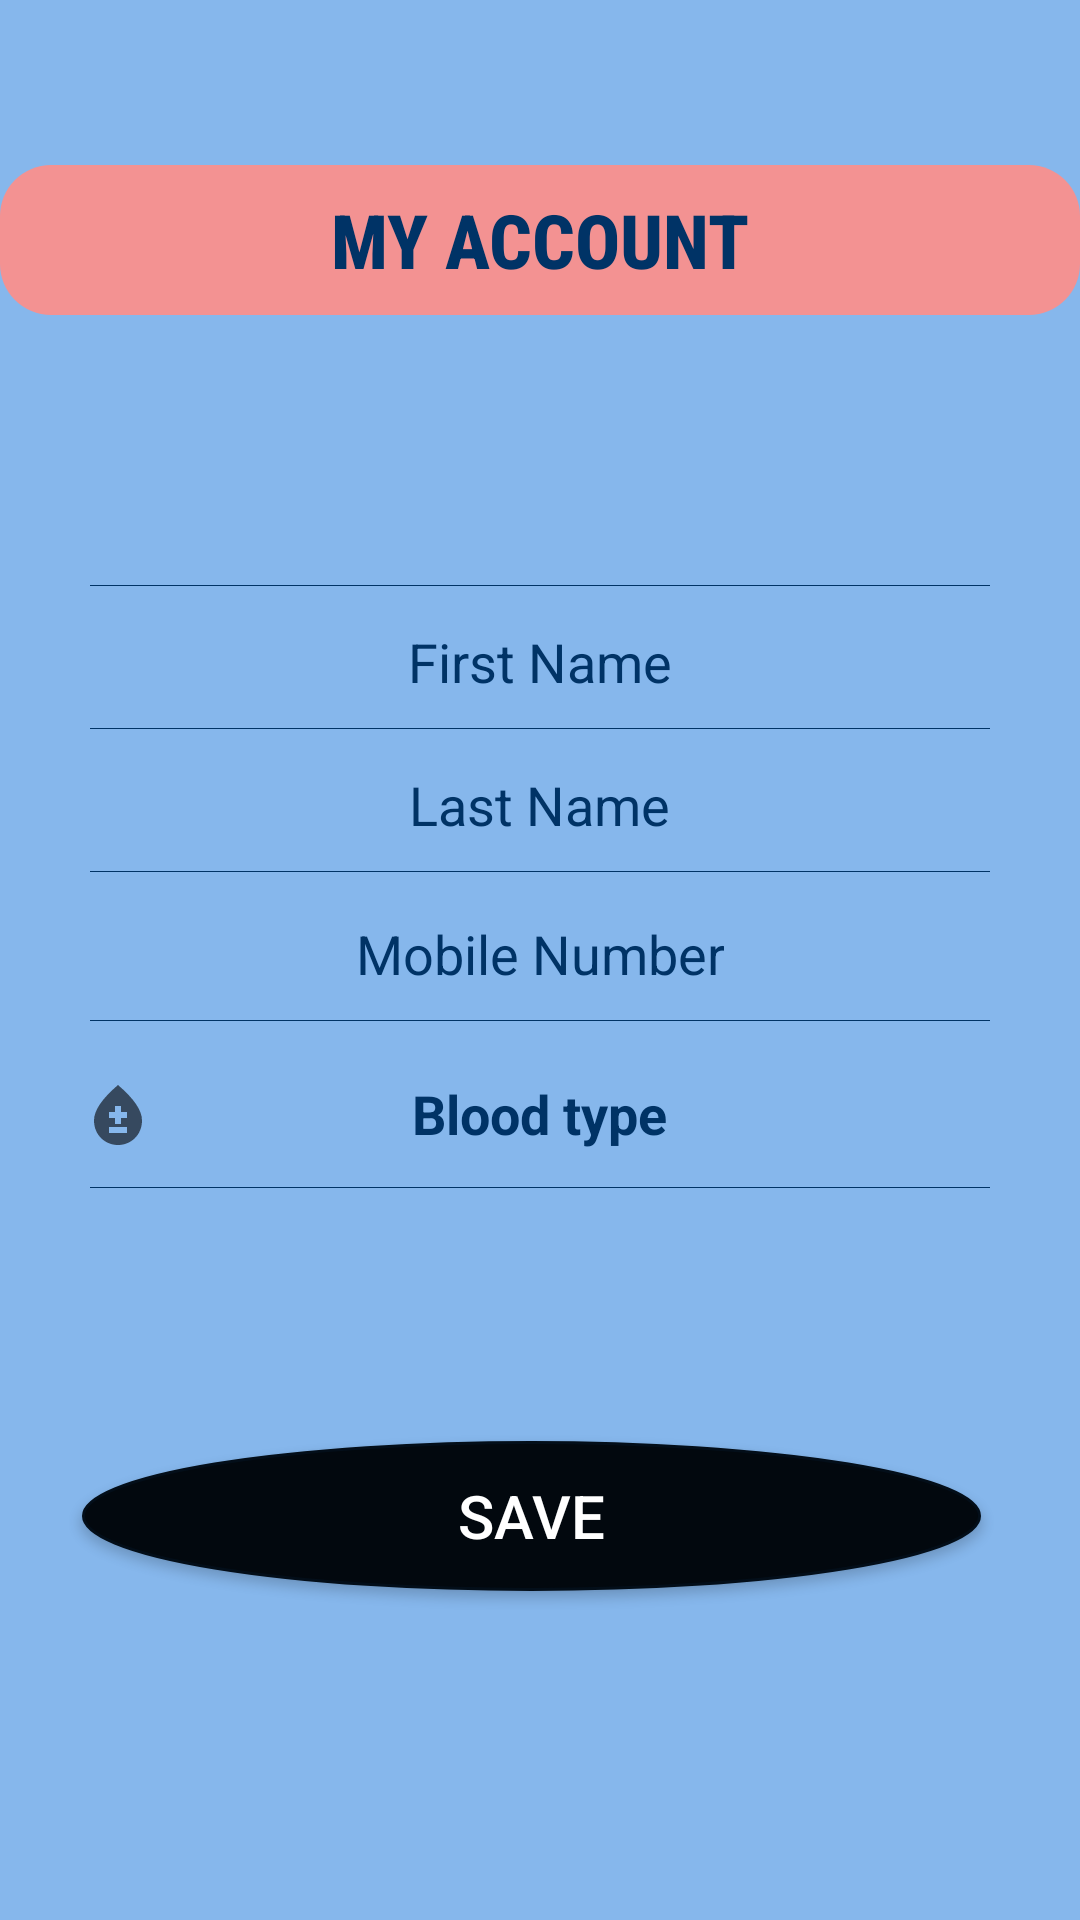

Named icons in this screenshot (1080 × 1920) and their centers, point (x, y):
bloodtype: point (118, 1115)
